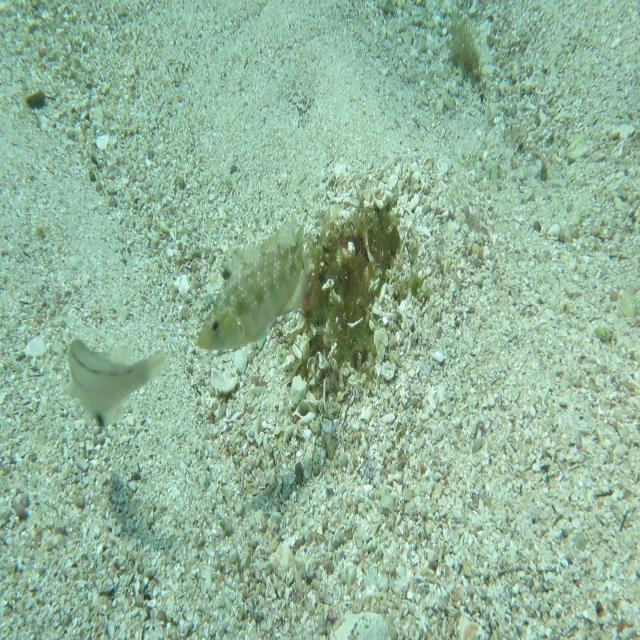CHASE_FLEE: (193, 210, 314, 354)
female: (61, 336, 169, 432)
nest: (274, 184, 418, 420)
